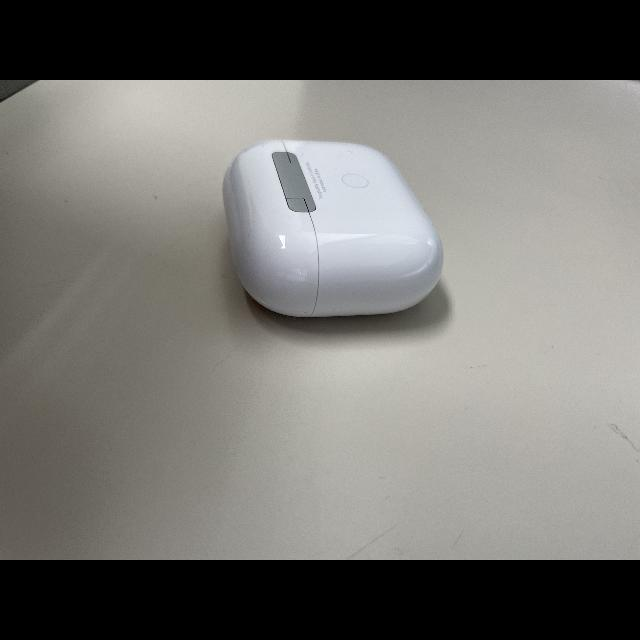airpod3: (223, 133, 445, 329)
